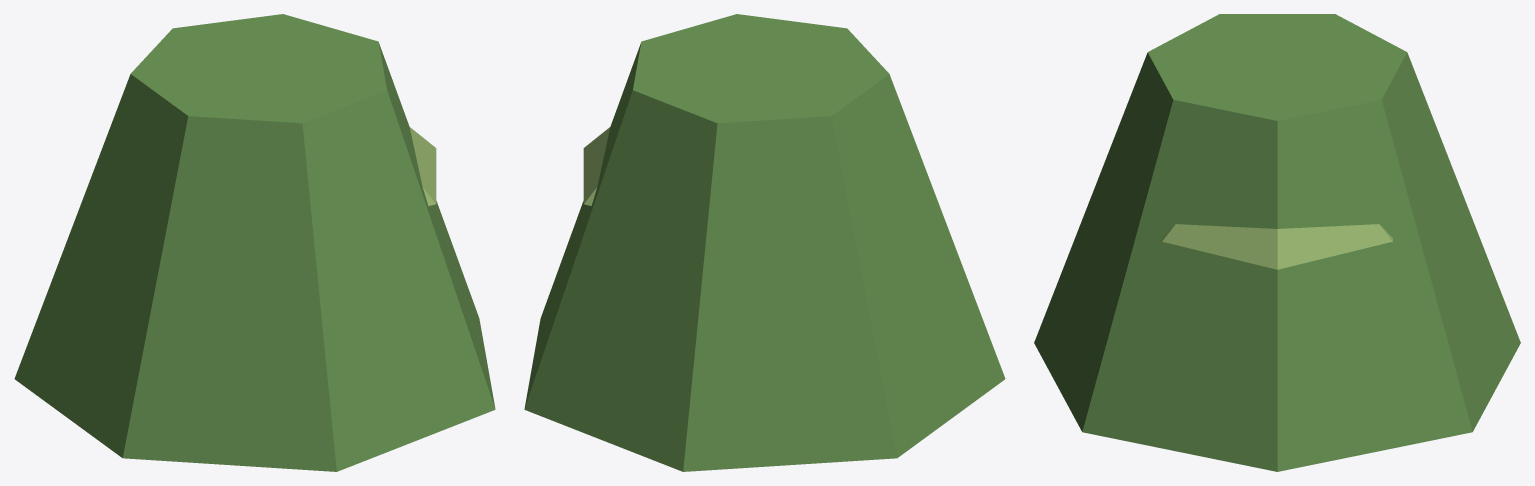
File: bush_04.glb
The picture shows the model from 3 angles, left to right: view 1: azimuth 30°, elevation 25°; view 2: azimuth 150°, elevation 25°; view 3: azimuth 270°, elevation 25°; orthographic projection.
Bounding box in the file's own units: 1.43 × 1 × 1.46.
